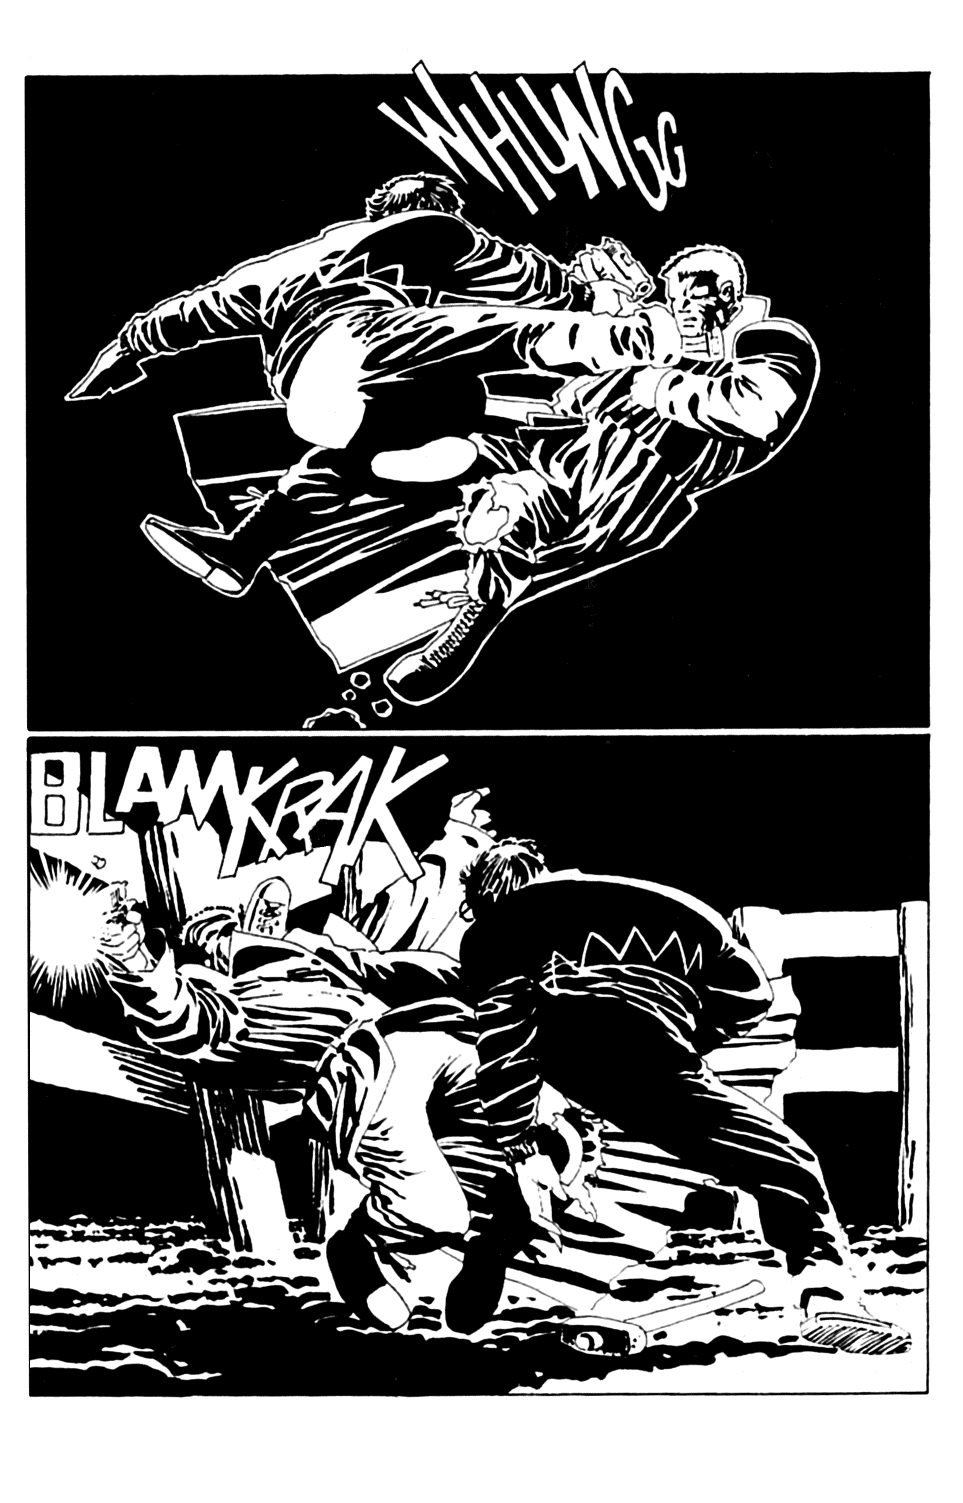Vignetta: (28, 72, 930, 735), (30, 738, 928, 1392)
